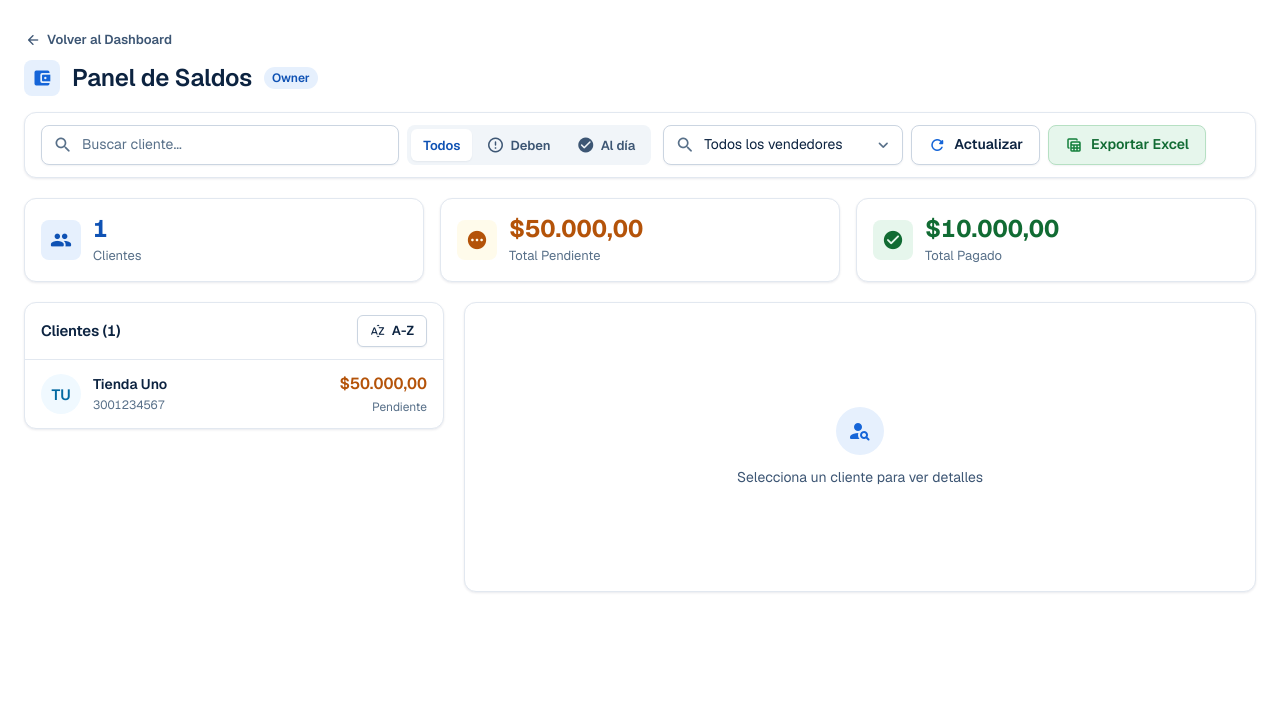
el owner sigue viendo el ojito y el botón Pagar
The image size is (1280, 720).
Step 1. Click the text "Tienda Uno" → {"x": 130, "y": 385}, box 93,374 -> 167,395
(page scrolled)
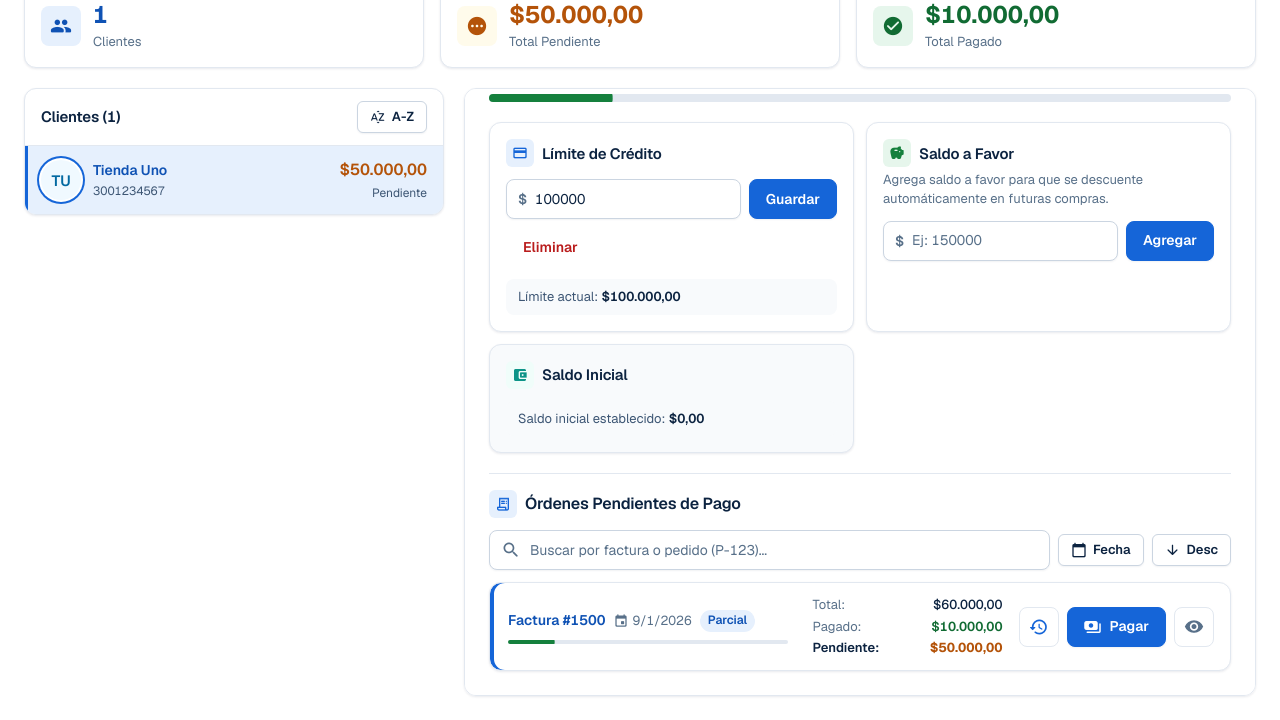
Result: the heading "Órdenes Pendientes de Pago" is shown at 489,490 -> 741,518
Result: the button named "Ver detalles de la orden" is shown at 1174,606 -> 1214,646
Result: the button titled "Registrar Pago" is shown at 1066,606 -> 1166,646
